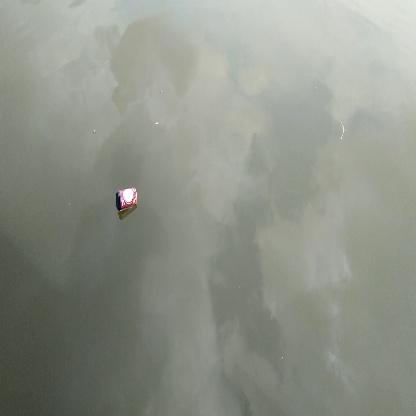bottle: (113, 186, 142, 216)
